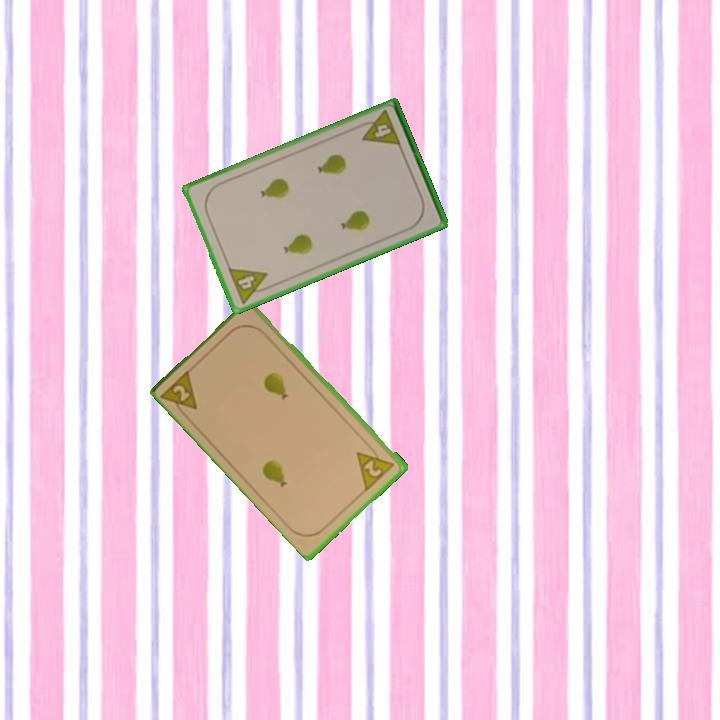2p: (158, 365, 201, 422), (353, 441, 399, 493)
4p: (224, 264, 275, 307), (354, 107, 404, 149)
